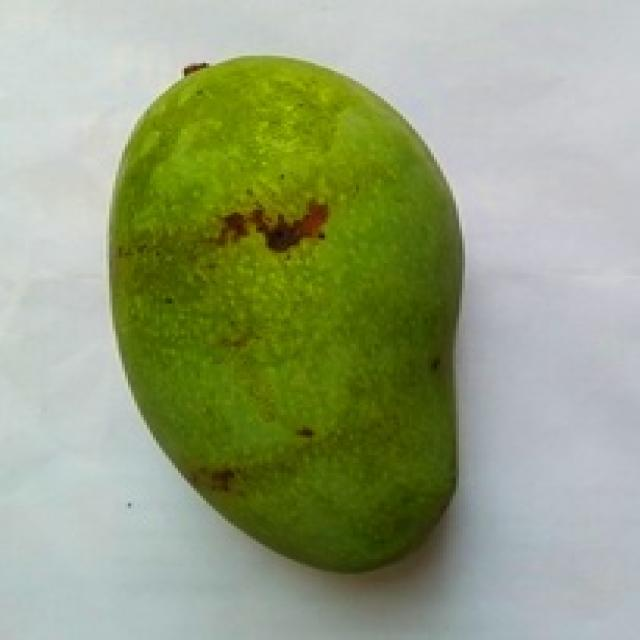Mango: (112, 58, 459, 569)
